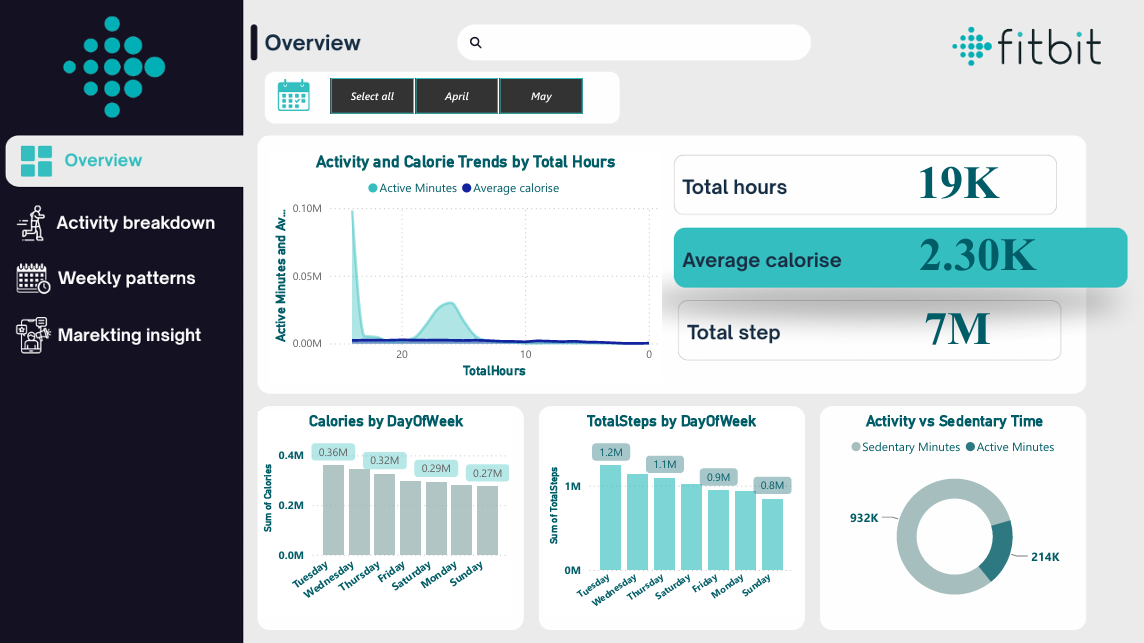

What the dashboard file says about the page in this screenshot:
{"tool":"powerbi","page":{"name":"Overview","canvas":[1280,720],"ordinal":0},"visuals":[{"type":"slicer","fields":{"Values":["cleaned_dailyActivity.Month"]},"box":[344,80,332,54],"z":0},{"type":"card","fields":{"Values":["Sum(cleaned_dailyActivity.TotalSteps)"]},"box":[946,322,252,82],"z":1000},{"type":"card","fields":{"Values":["Sum(cleaned_dailyActivity.TotalHours)"]},"box":[946,158,252,82],"z":2000},{"type":"card","fields":{"Values":["cleaned_dailyActivity.Average calorise"]},"box":[968.7,240.2,251.3,81.1],"z":3000},{"type":"clusteredColumnChart","title":" Calories by DayOfWeek","fields":{"Category":["cleaned_dailyActivity.DayOfWeek"],"Y":["Sum(cleaned_dailyActivity.Calories)"]},"box":[289.5,461.3,284.7,230.6],"z":4000},{"type":"clusteredColumnChart","title":" TotalSteps by DayOfWeek","fields":{"Category":["cleaned_dailyActivity.DayOfWeek"],"Y":["Sum(cleaned_dailyActivity.TotalSteps)"]},"box":[609.2,461.3,284.7,230.6],"z":5000},{"type":"lineChart","title":"Activity and Calorie Trends by Total Hours","fields":{"Category":["cleaned_dailyActivity.TotalHours"],"Y":["cleaned_dailyActivity.Active Minutes","cleaned_dailyActivity.Average calorise"]},"box":[300.6,170.2,440.6,257.7],"z":6000},{"type":"donutChart","title":"Activity vs Sedentary Time","fields":{"Y":["cleaned_dailyActivity.Sedentary Minutes","cleaned_dailyActivity.Active Minutes"]},"box":[922.6,461.3,291.1,230.6],"z":7000},{"type":"actionButton","box":[0,218,258,62],"z":8000},{"type":"actionButton","box":[0,280,236,60],"z":9000},{"type":"actionButton","box":[0,340,236,64],"z":10000}]}

Visuals, with their boxes on the page's 1280x720 design canvas (x1, y1, x2, y2). These are canvas units, not pixel positions in the 1144x643 screenshot, which may show the page scaled, cropped or inside an application window:
slicer - cleaned_dailyActivity.Month: [left=344, top=80, right=676, bottom=134]
card - Sum(cleaned_dailyActivity.TotalSteps): [left=946, top=322, right=1198, bottom=404]
card - Sum(cleaned_dailyActivity.TotalHours): [left=946, top=158, right=1198, bottom=240]
card - cleaned_dailyActivity.Average calorise: [left=969, top=240, right=1220, bottom=321]
" Calories by DayOfWeek" clusteredColumnChart: [left=290, top=461, right=574, bottom=692]
" TotalSteps by DayOfWeek" clusteredColumnChart: [left=609, top=461, right=894, bottom=692]
"Activity and Calorie Trends by Total Hours" lineChart: [left=301, top=170, right=741, bottom=428]
"Activity vs Sedentary Time" donutChart: [left=923, top=461, right=1214, bottom=692]
actionButton: [left=0, top=218, right=258, bottom=280]
actionButton: [left=0, top=280, right=236, bottom=340]
actionButton: [left=0, top=340, right=236, bottom=404]
